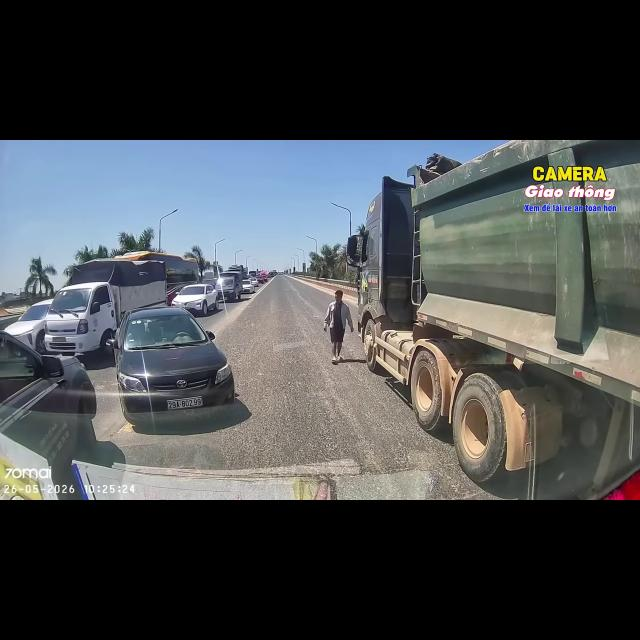bus: (114, 251, 198, 291)
car: (0, 331, 98, 494), (108, 307, 234, 424), (5, 299, 52, 353), (171, 284, 219, 315), (241, 279, 255, 293), (249, 277, 259, 287), (257, 275, 266, 283)
truck: (347, 140, 639, 498), (45, 259, 166, 355), (215, 271, 243, 301), (227, 265, 247, 280)
